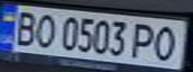0: (57, 14, 81, 52), (90, 17, 112, 55)
3: (109, 18, 133, 57)
5: (75, 16, 96, 54)
B: (6, 8, 42, 47)
O: (148, 24, 184, 62), (30, 11, 60, 50)
P: (127, 20, 160, 60)
